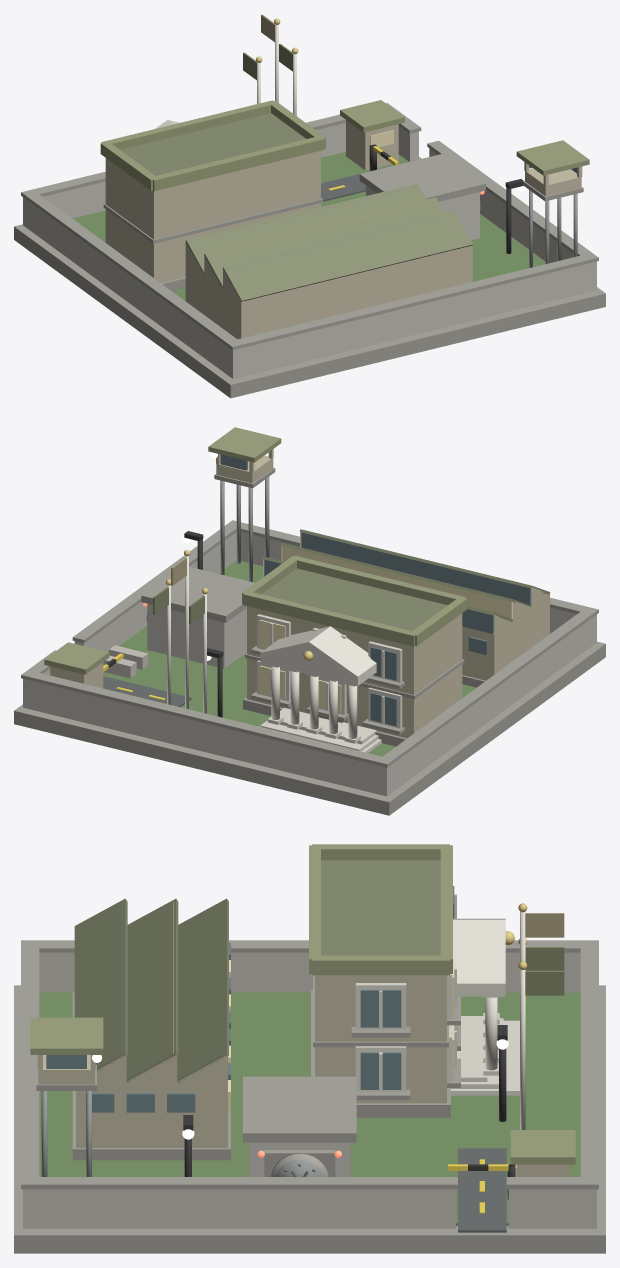
File: treasury_8.glb
3 views of the same model, one above another, from view 1: azimuth 30°, elevation 25°; view 2: azimuth 150°, elevation 25°; view 3: azimuth 270°, elevation 25° (orthographic). The views are drawn at different scales.
Parts seen in each view (by area): view 1: Cube.034, Cube, Cube.014, Cube.100, Cube.029, Cube.102, Cube.069, Cube.033, Cube.031, Cube.001, Cube.101, Cube.093 (+17 smaller); view 2: Cube, Cube.098, Cube.034, Cube.102, Cube.001, Cube.069, Cube.092, Cube.099, Cube.028, Cube.014, Cube.103, prism (+28 smaller); view 3: Cube.001, Cube, Cube.106, Cube.069, Cube.034, Cube.031, Cube.033, Cube.014, Cube.093, Cube.029, Cube.102, Cube.107 (+44 smaller).
Part boxes in pixels (left/top/right/bottom): Cube.034: left=105, top=150, right=320, bottom=282; Cube: left=14, top=157, right=605, bottom=398; Cube.014: left=185, top=245, right=472, bottom=339; Cube.100: left=228, top=261, right=596, bottom=378; Cube.029: left=222, top=211, right=472, bottom=301; Cube.102: left=25, top=199, right=230, bottom=376; Cube.069: left=120, top=113, right=305, bottom=175; Cube.033: left=185, top=183, right=425, bottom=273; Cube.031: left=204, top=197, right=444, bottom=287; Cube.001: left=72, top=152, right=545, bottom=300; Cube.101: left=226, top=253, right=598, bottom=350; Cube.093: left=359, top=153, right=485, bottom=201; Cube: left=14, top=641, right=605, bottom=815; Cube.098: left=23, top=679, right=391, bottom=796; Cube.034: left=247, top=606, right=462, bottom=738; Cube.102: left=389, top=616, right=594, bottom=794; Cube.001: left=103, top=560, right=476, bottom=756; Cube.069: left=261, top=568, right=447, bottom=631; Cube.092: left=147, top=604, right=246, bottom=668; Cube.099: left=21, top=673, right=393, bottom=767; Cube.028: left=301, top=532, right=531, bottom=605; Cube.014: left=462, top=594, right=549, bottom=680; Cube.103: left=379, top=608, right=594, bottom=765; prism: left=260, top=626, right=376, bottom=676; Cube.001: left=39, top=992, right=580, bottom=1225; Cube: left=14, top=985, right=605, bottom=1253; Cube.106: left=30, top=1189, right=455, bottom=1228; Cube.069: left=321, top=860, right=440, bottom=955; Cube.034: left=315, top=975, right=446, bottom=1103; Cube.031: left=126, top=898, right=178, bottom=1082; Cube.033: left=177, top=898, right=228, bottom=1083; Cube.014: left=76, top=1081, right=227, bottom=1147; Cube.093: left=243, top=1076, right=356, bottom=1142; Cube.029: left=74, top=898, right=127, bottom=1070; Cube.102: left=39, top=952, right=580, bottom=992; Cube.107: left=28, top=1177, right=457, bottom=1189.
Bounding box in the file's own units: 2.92 × 1.39 × 2.92.
